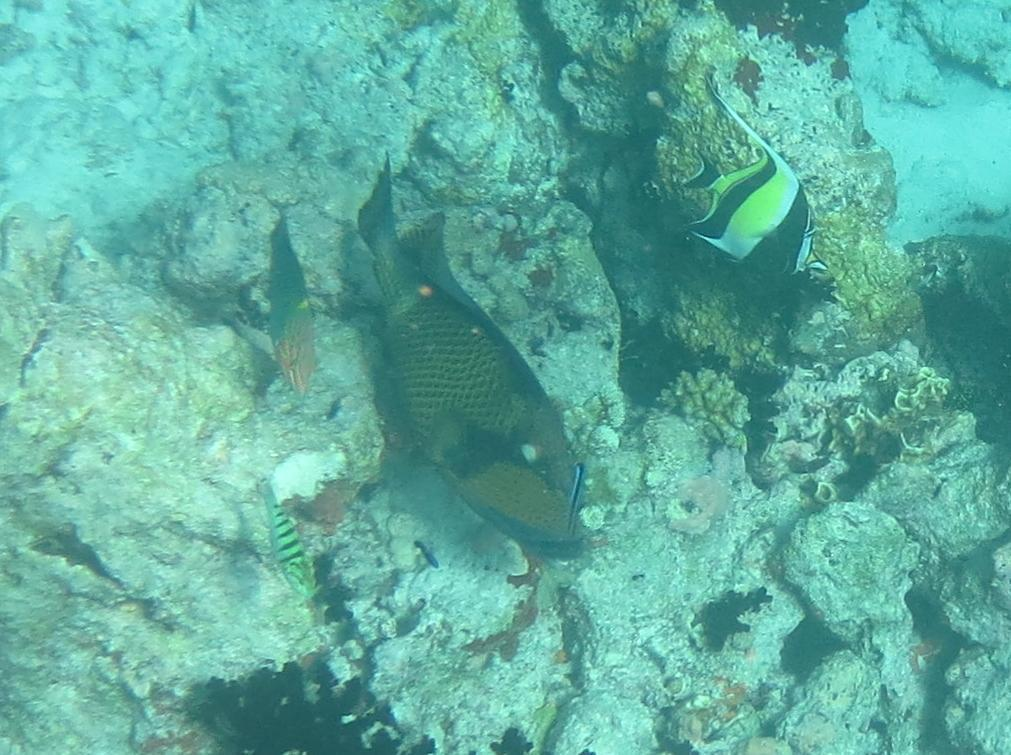Fish: (336, 139, 610, 572)
Heniochus diphreutes: (656, 61, 828, 297)
